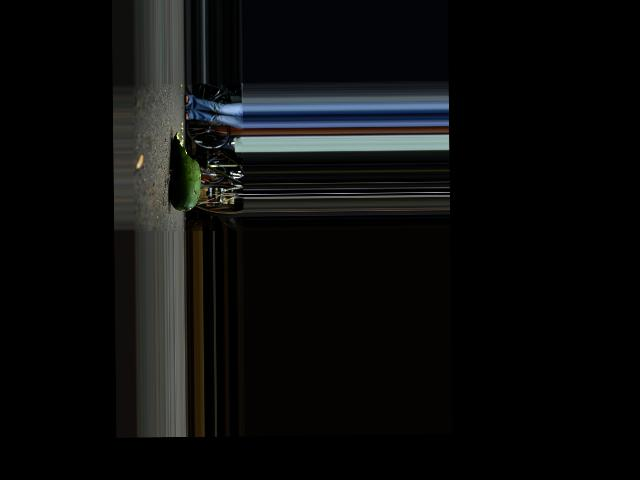cucumber: (169, 130, 201, 211)
